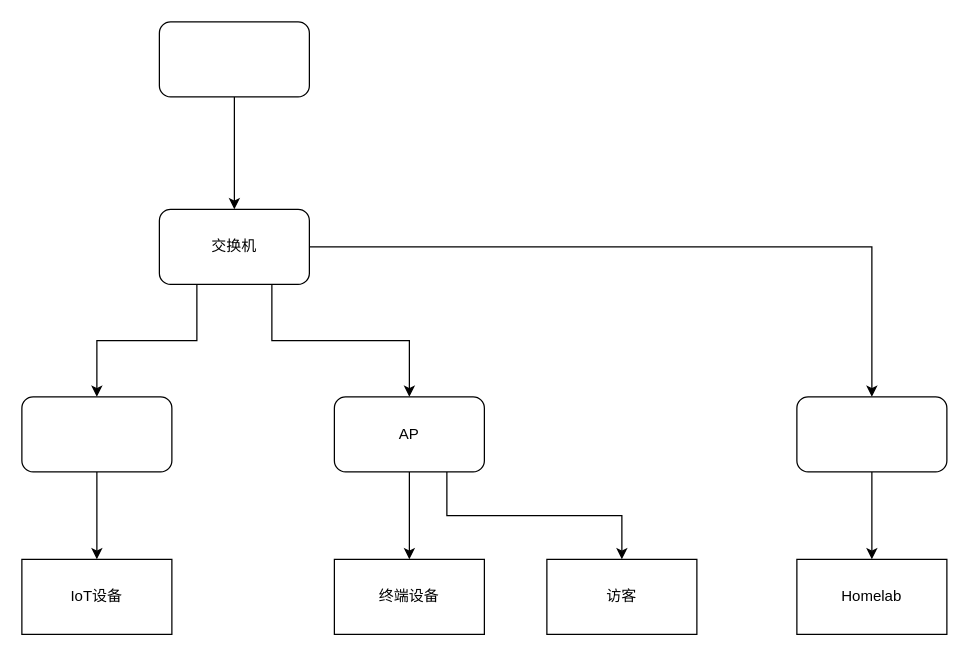
Some shapes in this 969 by 656 pixel diagram are drawn without their labels. Here are the shapes that lost their labels. From the top down, the centre of each, then its label:
At point 233,59: "路由器".
At point 96,434: "小米wifi".
At point 871,434: "有线".
